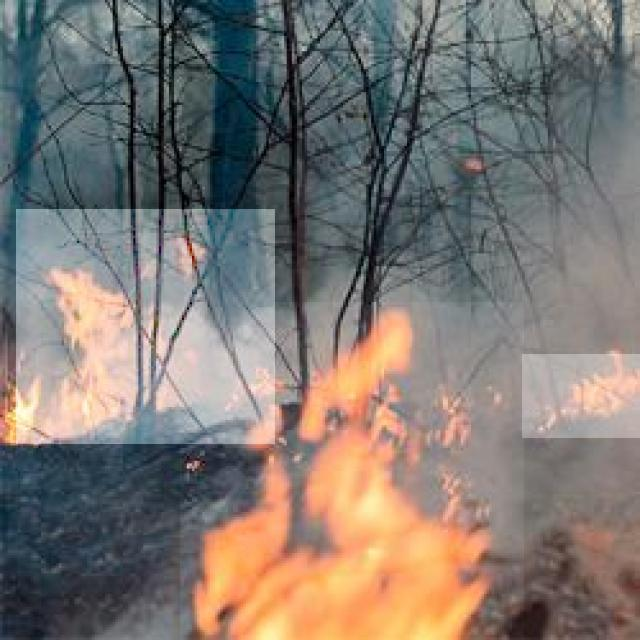Fire: (180, 302, 524, 640), (16, 209, 275, 444), (522, 354, 640, 438)
